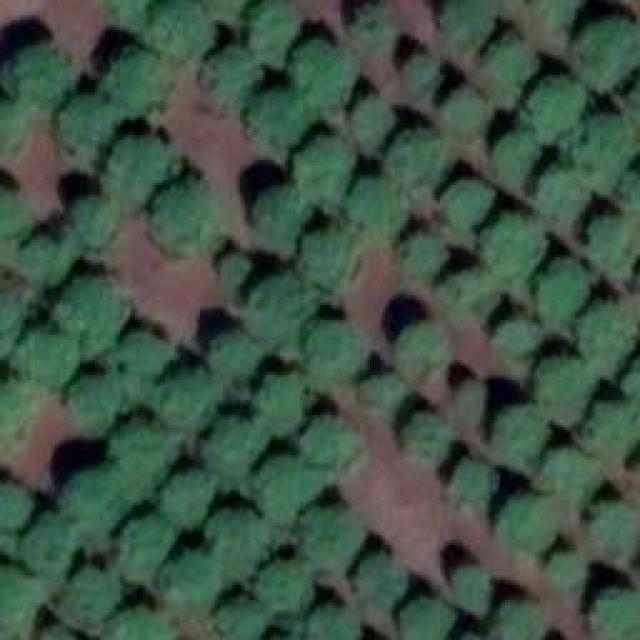Tree: (55, 278, 128, 353), (153, 173, 226, 248), (570, 15, 640, 88), (580, 110, 640, 193), (292, 40, 360, 110), (113, 430, 188, 493), (108, 130, 178, 195), (13, 43, 86, 103), (295, 135, 353, 208), (55, 475, 125, 535), (200, 48, 263, 113), (305, 320, 370, 383), (542, 355, 600, 423), (265, 458, 320, 528), (110, 48, 173, 108), (388, 128, 451, 188), (308, 505, 368, 568), (57, 95, 115, 160), (153, 0, 218, 58), (155, 555, 220, 613), (252, 278, 310, 341), (200, 425, 258, 488), (545, 450, 608, 508), (488, 208, 548, 268), (213, 510, 268, 575), (252, 375, 310, 435), (53, 578, 118, 631), (502, 492, 560, 550), (308, 225, 361, 288), (585, 297, 633, 365), (245, 100, 303, 155), (155, 375, 210, 433), (445, 268, 503, 323), (350, 552, 405, 610), (115, 518, 168, 578), (253, 190, 306, 248), (495, 405, 548, 463), (13, 335, 73, 385), (535, 258, 585, 318), (22, 230, 80, 280), (350, 180, 400, 238), (265, 552, 315, 610), (313, 415, 363, 473), (587, 587, 640, 640), (255, 0, 300, 62), (210, 592, 268, 640), (592, 402, 640, 460), (592, 502, 640, 560), (403, 413, 453, 468), (535, 163, 585, 218), (528, 80, 583, 130), (115, 330, 168, 380), (158, 483, 211, 533), (398, 323, 448, 376), (400, 228, 450, 281), (590, 215, 635, 273), (442, 0, 492, 52), (0, 570, 40, 635), (80, 193, 123, 253), (70, 378, 118, 431), (443, 177, 496, 225), (495, 315, 543, 368), (495, 128, 543, 181), (485, 45, 535, 95), (445, 460, 493, 510), (28, 525, 71, 578), (213, 333, 256, 383), (403, 600, 453, 640), (358, 375, 403, 418), (315, 595, 358, 640), (450, 568, 493, 613), (0, 187, 32, 247), (445, 85, 483, 133), (500, 602, 548, 640), (353, 100, 393, 145), (0, 287, 25, 355), (0, 97, 35, 145), (0, 482, 35, 530), (397, 55, 435, 98), (105, 617, 175, 640), (350, 5, 390, 45), (548, 553, 588, 593), (0, 388, 28, 438), (453, 380, 488, 420), (535, 0, 578, 30), (218, 255, 251, 290), (615, 360, 638, 403)
